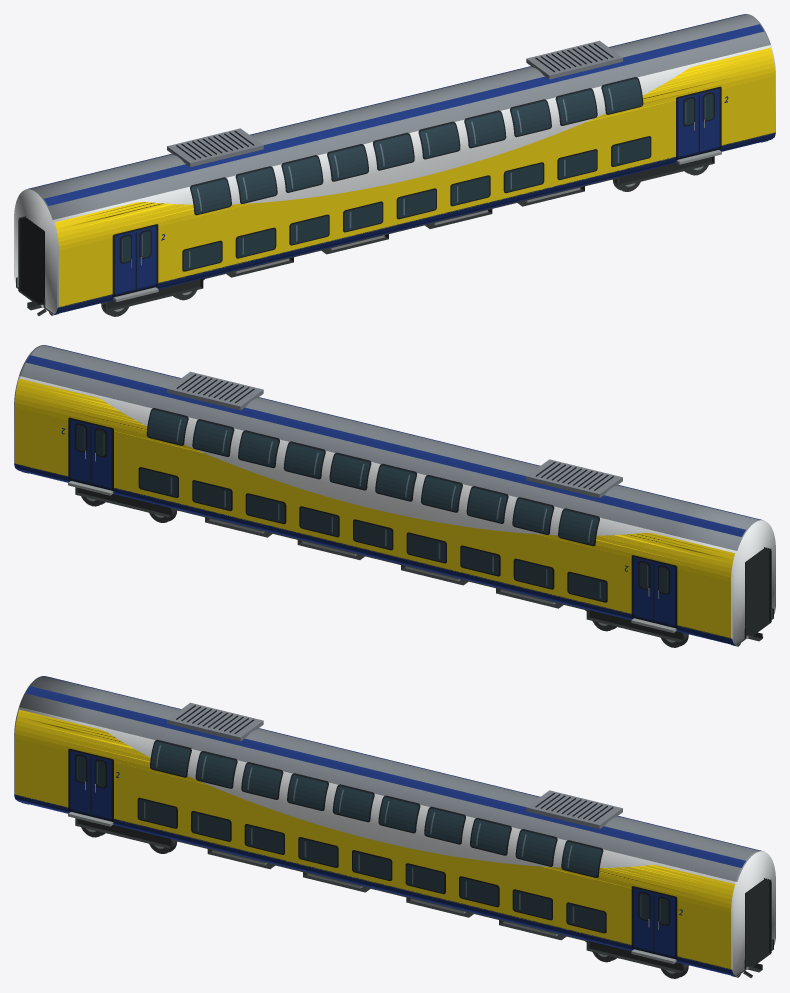
The model's file is metronom-second-class.glb.
3 renders of one model, top to bottom at view 1: azimuth 30°, elevation 25°; view 2: azimuth 150°, elevation 25°; view 3: azimuth 330°, elevation 25°, orthographic.
Parts seen in each view (by area): view 1: second_class_yellow_curve_-1, second_class_continuous_shell, second_class_blue_roof_edge_-1, second_class_blue_sill_-1, second_class_door_blue_-1_0, second_class_hvac_0, second_class_hvac_1, second_class_door_blue_-1_1, second_class_bellows_-1_3, second_class_upper_-1_4_pane, second_class_upper_-1_0_pane, second_class_upper_-1_1_pane (+22 smaller); view 2: second_class_yellow_curve_1, second_class_continuous_shell, second_class_blue_roof_edge_1, second_class_blue_sill_1, second_class_door_blue_1_0, second_class_hvac_0, second_class_hvac_1, second_class_door_blue_1_1, second_class_bellows_-1_3, second_class_bogie_0, second_class_bogie_1, second_class_upper_1_4_pane (+22 smaller); view 3: second_class_yellow_curve_-1, second_class_continuous_shell, second_class_blue_roof_edge_-1, second_class_blue_sill_-1, second_class_door_blue_-1_1, second_class_hvac_0, second_class_hvac_1, second_class_door_blue_-1_0, second_class_bellows_1_3, second_class_upper_-1_6_pane, second_class_upper_-1_9_pane, second_class_upper_-1_0_pane (+22 smaller).
Part boxes in pixels (x1=…): second_class_yellow_curve_-1: x1=55, y1=47, x2=774, y2=307; second_class_continuous_shell: x1=14, y1=14, x2=775, y2=314; second_class_blue_roof_edge_-1: x1=44, y1=24, x2=764, y2=205; second_class_blue_sill_-1: x1=58, y1=132, x2=774, y2=311; second_class_door_blue_-1_0: x1=115, y1=226, x2=156, y2=295; second_class_hvac_0: x1=167, y1=128, x2=263, y2=166; second_class_hvac_1: x1=526, y1=40, x2=622, y2=79; second_class_door_blue_-1_1: x1=678, y1=89, x2=719, y2=157; second_class_bellows_-1_3: x1=18, y1=217, x2=39, y2=305; second_class_upper_-1_4_pane: x1=374, y1=134, x2=413, y2=169; second_class_upper_-1_0_pane: x1=191, y1=179, x2=230, y2=213; second_class_upper_-1_1_pane: x1=237, y1=168, x2=276, y2=202; second_class_yellow_curve_1: x1=15, y1=378, x2=734, y2=638; second_class_continuous_shell: x1=14, y1=345, x2=775, y2=645; second_class_blue_roof_edge_1: x1=25, y1=355, x2=745, y2=536; second_class_blue_sill_1: x1=15, y1=463, x2=731, y2=642; second_class_door_blue_1_0: x1=633, y1=557, x2=674, y2=626; second_class_hvac_0: x1=526, y1=459, x2=622, y2=497; second_class_hvac_1: x1=167, y1=371, x2=263, y2=410; second_class_door_blue_1_1: x1=70, y1=420, x2=111, y2=488; second_class_bellows_-1_3: x1=750, y1=548, x2=771, y2=636; second_class_bogie_0: x1=586, y1=609, x2=688, y2=647; second_class_bogie_1: x1=75, y1=487, x2=176, y2=522; second_class_upper_1_4_pane: x1=376, y1=465, x2=415, y2=500; second_class_yellow_curve_-1: x1=15, y1=709, x2=734, y2=969; second_class_continuous_shell: x1=14, y1=676, x2=775, y2=976; second_class_blue_roof_edge_-1: x1=25, y1=686, x2=745, y2=867; second_class_blue_sill_-1: x1=15, y1=794, x2=731, y2=973; second_class_door_blue_-1_1: x1=633, y1=888, x2=674, y2=957; second_class_hvac_0: x1=167, y1=702, x2=263, y2=741; second_class_hvac_1: x1=526, y1=790, x2=622, y2=828; second_class_door_blue_-1_0: x1=70, y1=751, x2=111, y2=819; second_class_bellows_1_3: x1=750, y1=879, x2=771, y2=967; second_class_upper_-1_6_pane: x1=425, y1=808, x2=464, y2=843; second_class_upper_-1_9_pane: x1=562, y1=842, x2=601, y2=876; second_class_upper_-1_0_pane: x1=151, y1=741, x2=190, y2=776.
Bounding box in the file's own units: 27 × 4.78 × 3.08.
